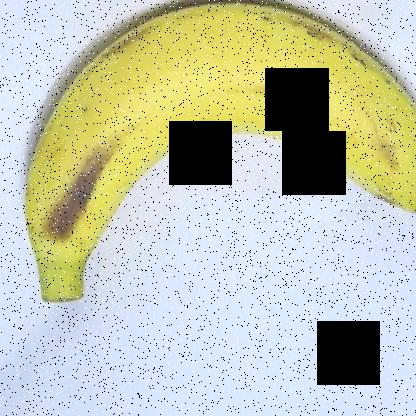freshripe: (13, 0, 416, 320)
